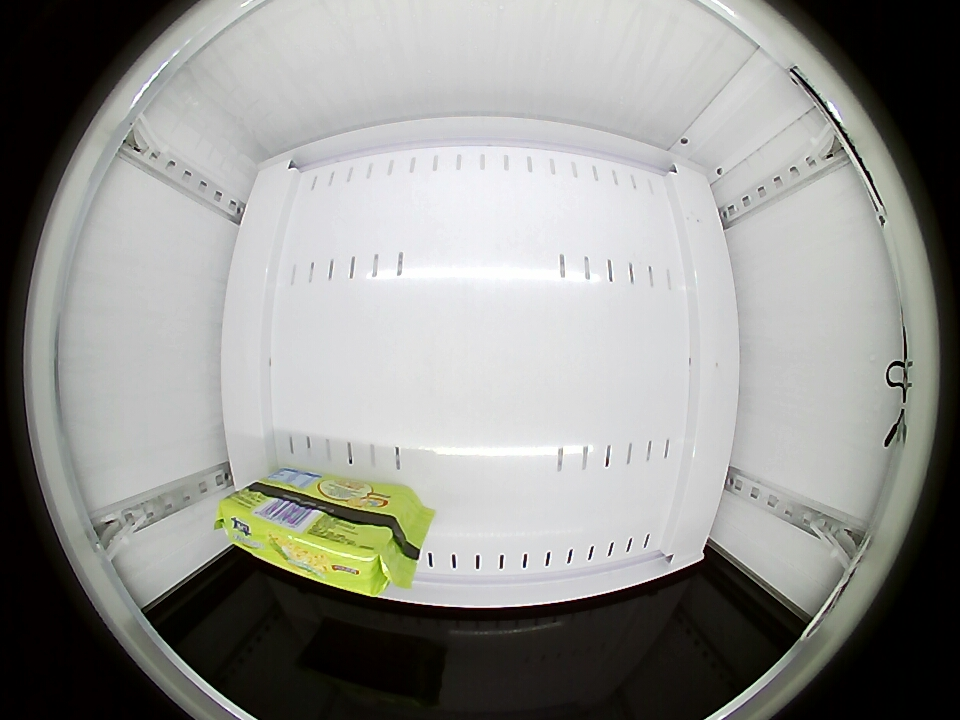taipingshuda: (219, 486, 404, 596)
